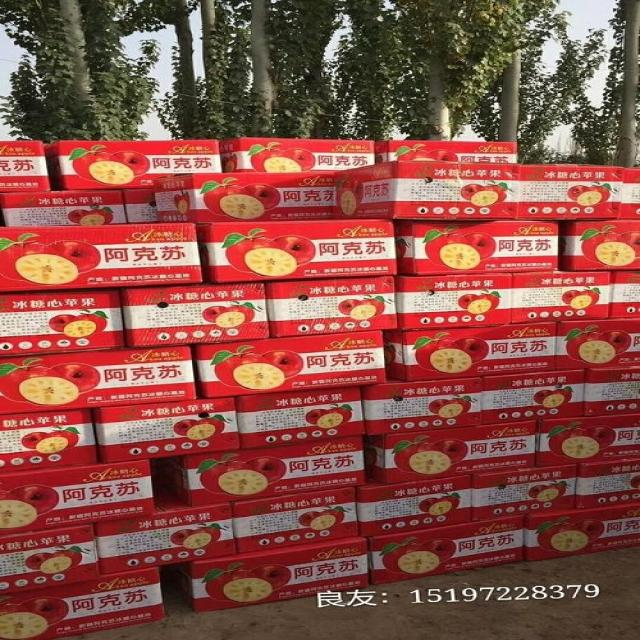Carton: (0, 138, 639, 384), (0, 416, 639, 639), (4, 276, 397, 461), (466, 464, 575, 526)
